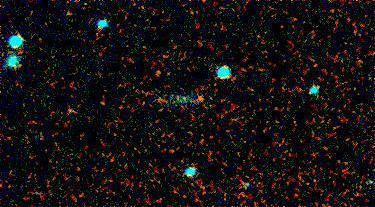star: (187, 83, 217, 113)
